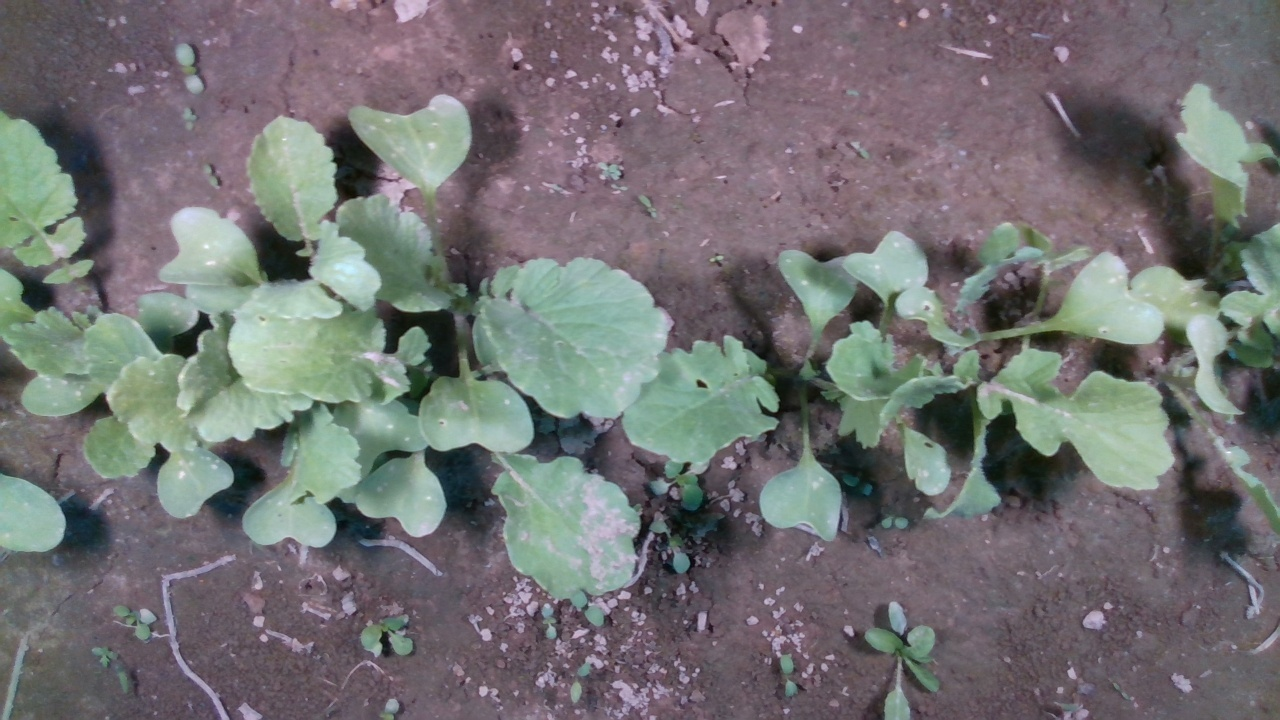weed: (174, 41, 206, 95), (110, 605, 152, 641), (569, 660, 593, 702), (779, 654, 799, 698), (541, 602, 558, 641), (201, 161, 221, 191), (638, 192, 657, 220), (180, 105, 199, 131), (708, 252, 724, 264)
